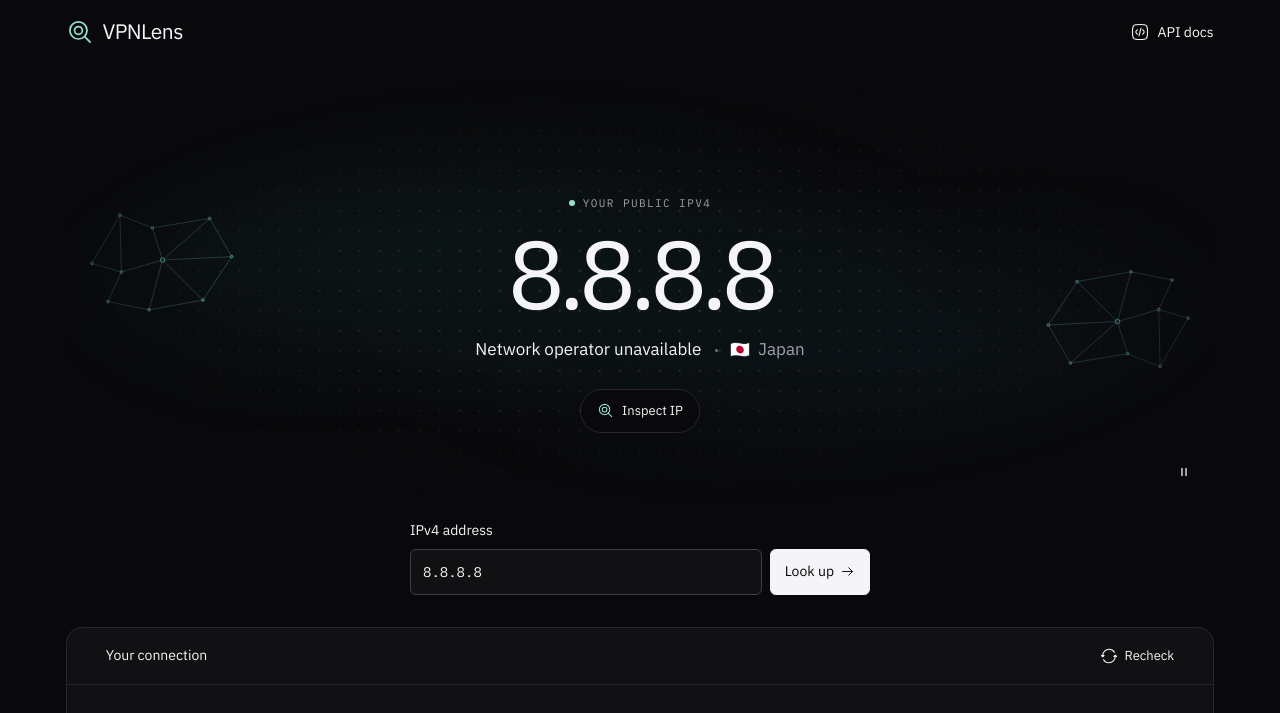
Test: focused live connection screen › validates 2001:db8::1 without another request
The image size is (1280, 713).
Expected: the heading "8.8.8.8" is shown, [508,225,773,321]
Replace the text in the field labelled "IPv4 address" with "2001:db8::1". click: (586, 572)
box: [410,549,762,595]
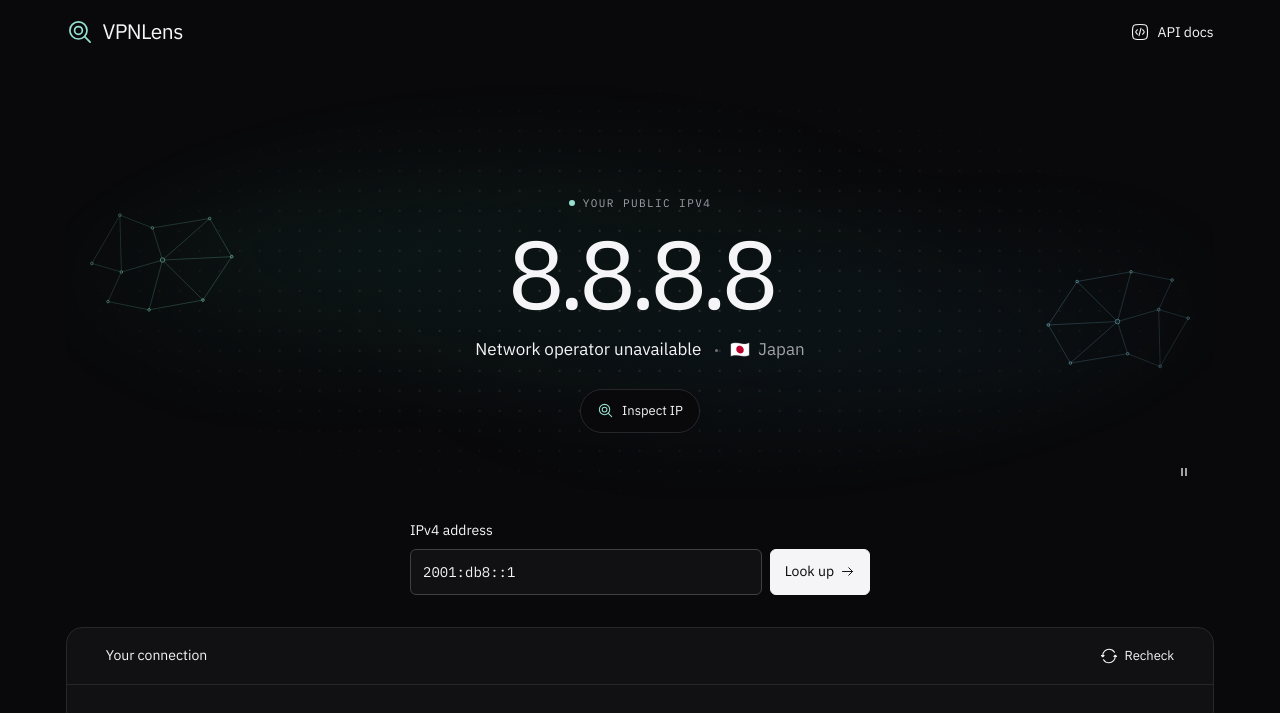
Click the button "Look up". click: (820, 572)
box: [770,549,870,595]
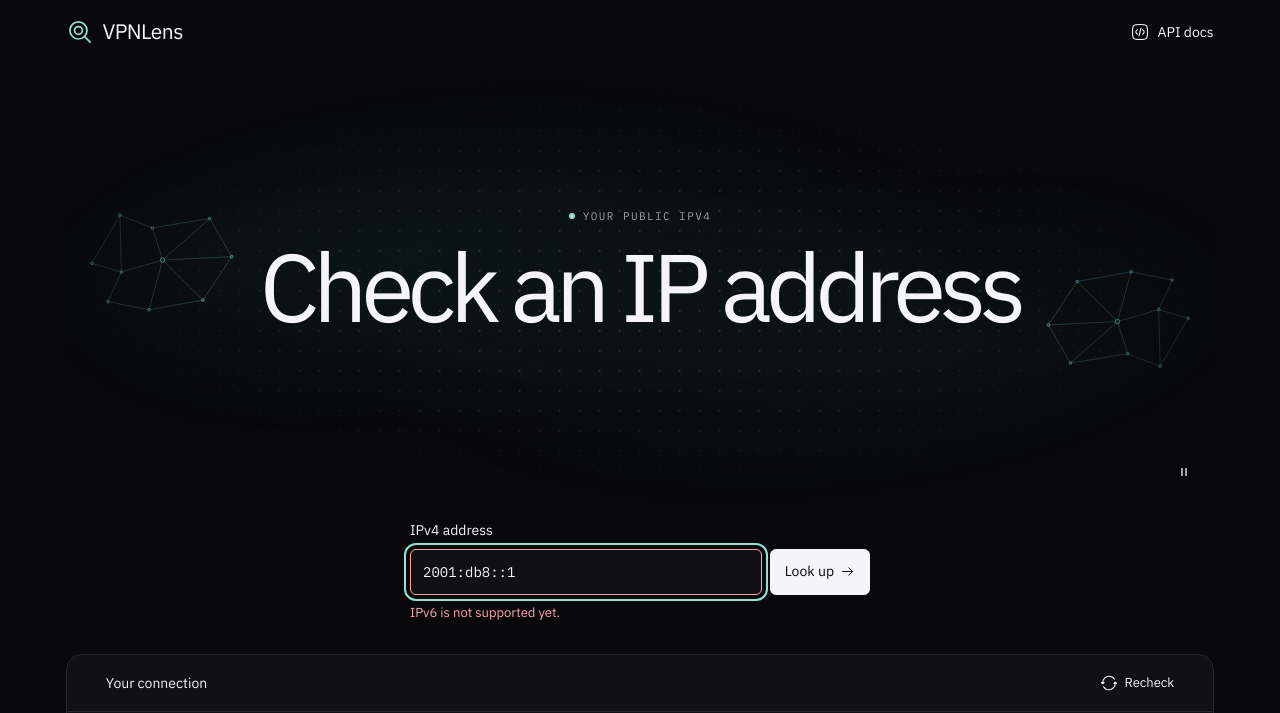
Now the text "IPv6 is not supported yet." is shown, box [410,604,560,621]
Now the heading "8.8.8.8" is gone
